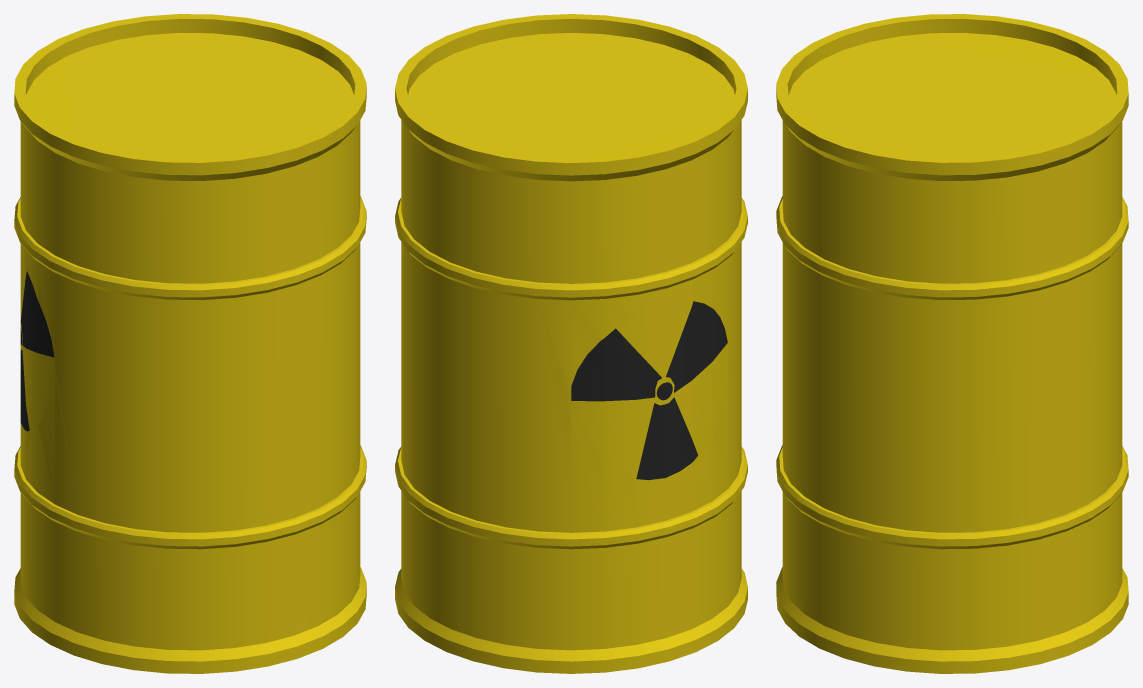
File: laboratory-barrel.glb
The picture shows the model from 3 angles, left to right: view 1: azimuth 30°, elevation 25°; view 2: azimuth 150°, elevation 25°; view 3: azimuth 270°, elevation 25°; orthographic projection.
Visible parts, largest first — view 1: Object_116; view 2: Object_116; view 3: Object_116.
Part boxes in pixels (left/top/right/bottom): Object_116: left=14, top=14, right=366, bottom=673; Object_116: left=395, top=14, right=747, bottom=673; Object_116: left=776, top=14, right=1128, bottom=673.
Bounding box in the file's own units: 0.4393 × 0.703 × 0.4393.
1 material, 1 textured.
